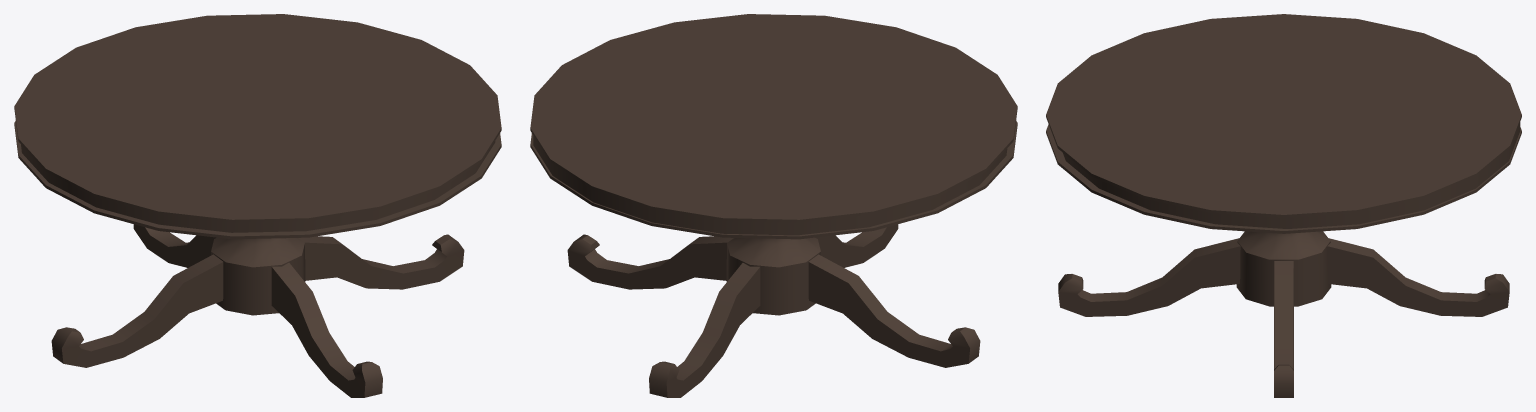
The model's file is pk_cocktail_round.glb.
3 renders of one model, left to right at view 1: azimuth 30°, elevation 25°; view 2: azimuth 150°, elevation 25°; view 3: azimuth 270°, elevation 25°, orthographic. The views are drawn at different scales.
Parts seen in each view (by area): view 1: pk_cocktail_round; view 2: pk_cocktail_round; view 3: pk_cocktail_round.
Part boxes in pixels (<box>): pk_cocktail_round: <box>14,14,501,397</box>; pk_cocktail_round: <box>530,14,1017,397</box>; pk_cocktail_round: <box>1046,14,1521,397</box>.
Size of the model in its own units: 1 by 0.46 by 1.
Materials: 1 (1 with a texture image).
